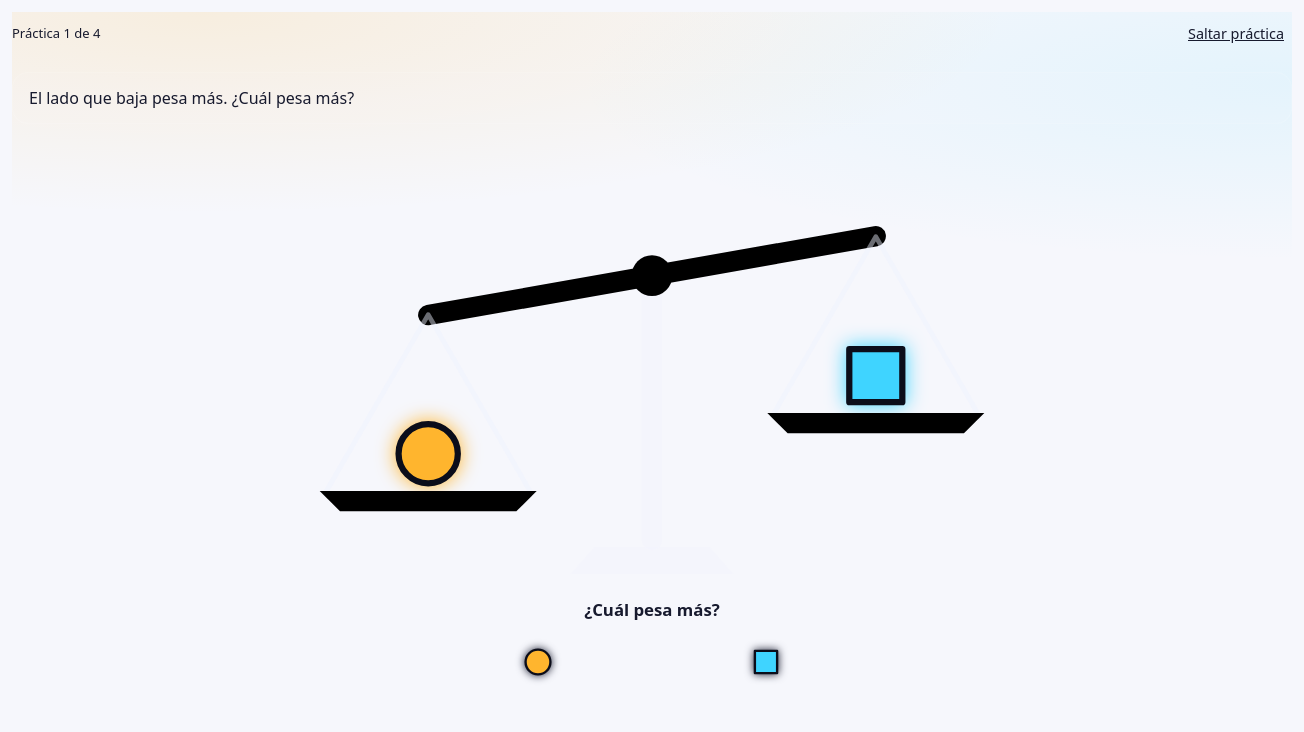
Test case: the four rounds, answered right, complete once; the new balance tips with a clonk in rounds 3 and 4
Later steps or results of the test are not shown.
Click the button named "círculo ámbar" at (538, 662), box x1=428 y1=632 x2=647 y2=692
Wait 700 ms
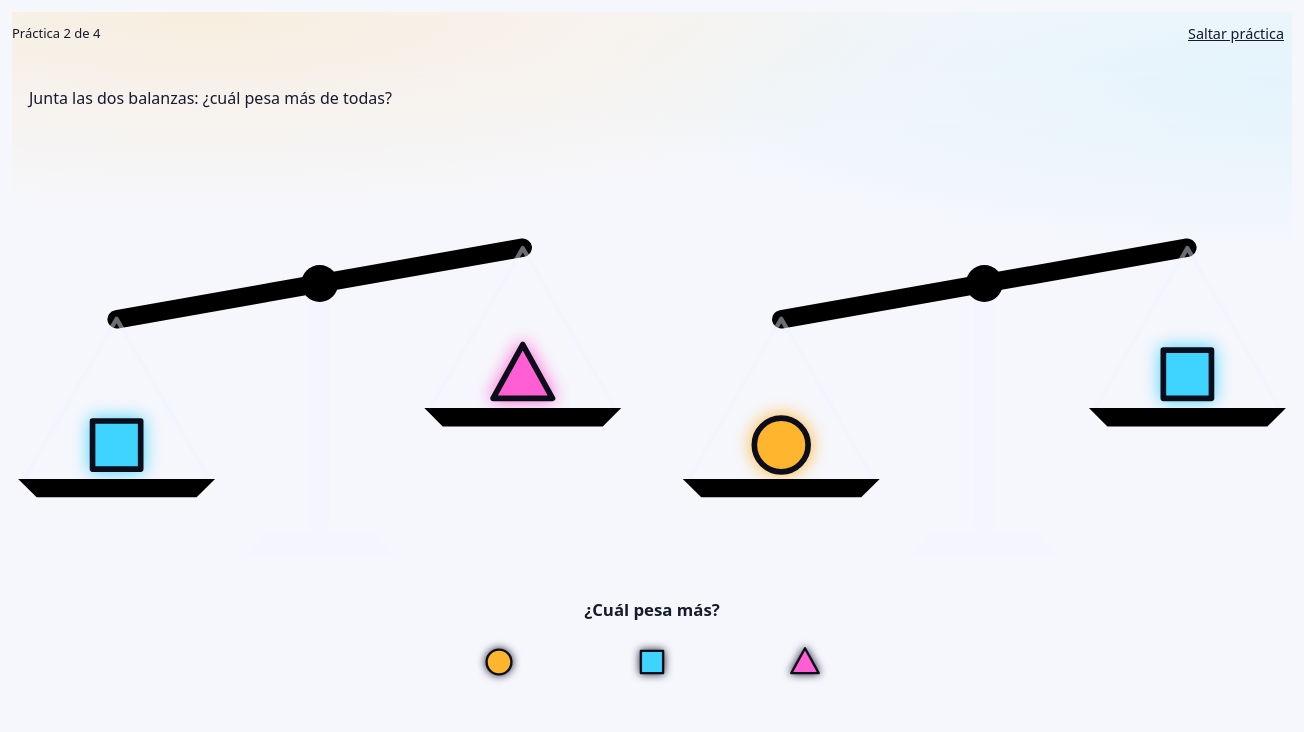
Now the text "Junta las dos balanzas: ¿cuál pesa más de todas?" is shown, box x1=12 y1=72 x2=1292 y2=124
Click the button named "círculo ámbar" at (499, 662), box x1=428 y1=632 x2=571 y2=692
Wait 700 ms
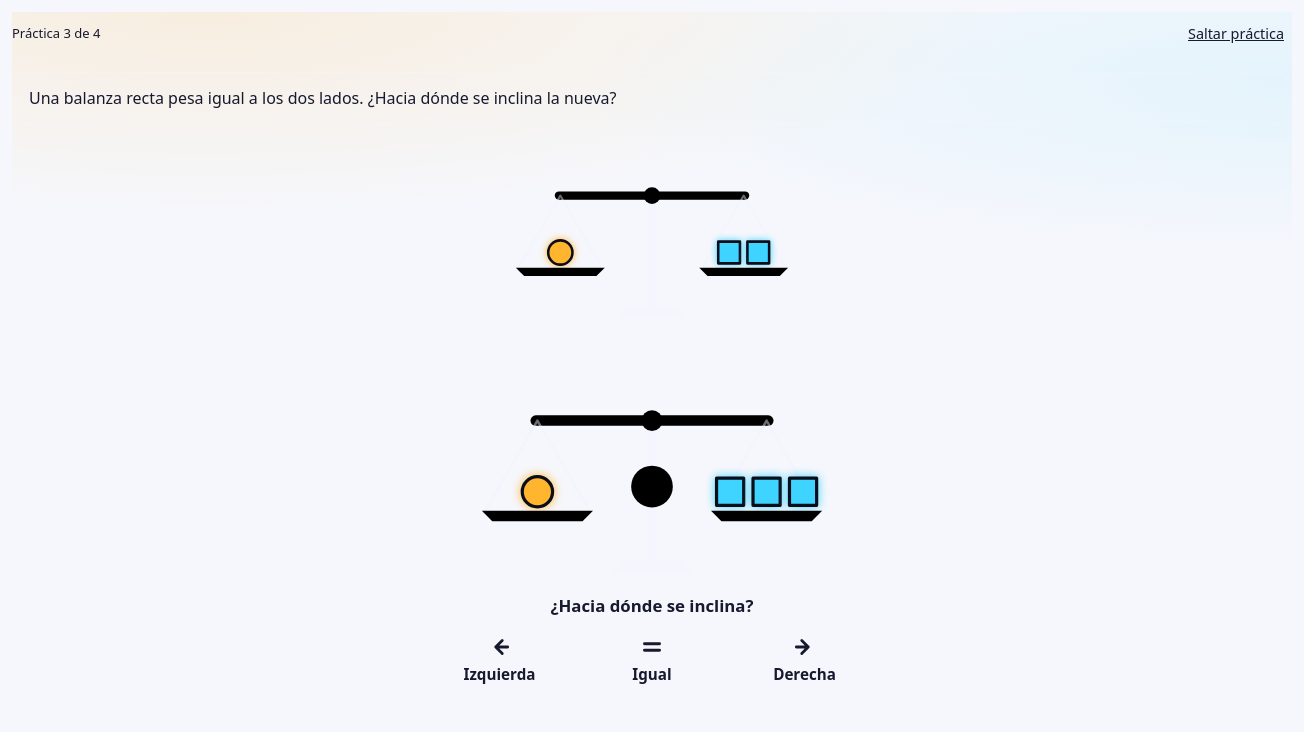
Now the text "Una balanza recta pesa igual a los dos lados. ¿Hacia dónde se inclina la nueva?" is shown, box x1=12 y1=72 x2=1292 y2=124
Click the button "Derecha" at (805, 660), box x1=733 y1=628 x2=876 y2=692
Wait 700 ms
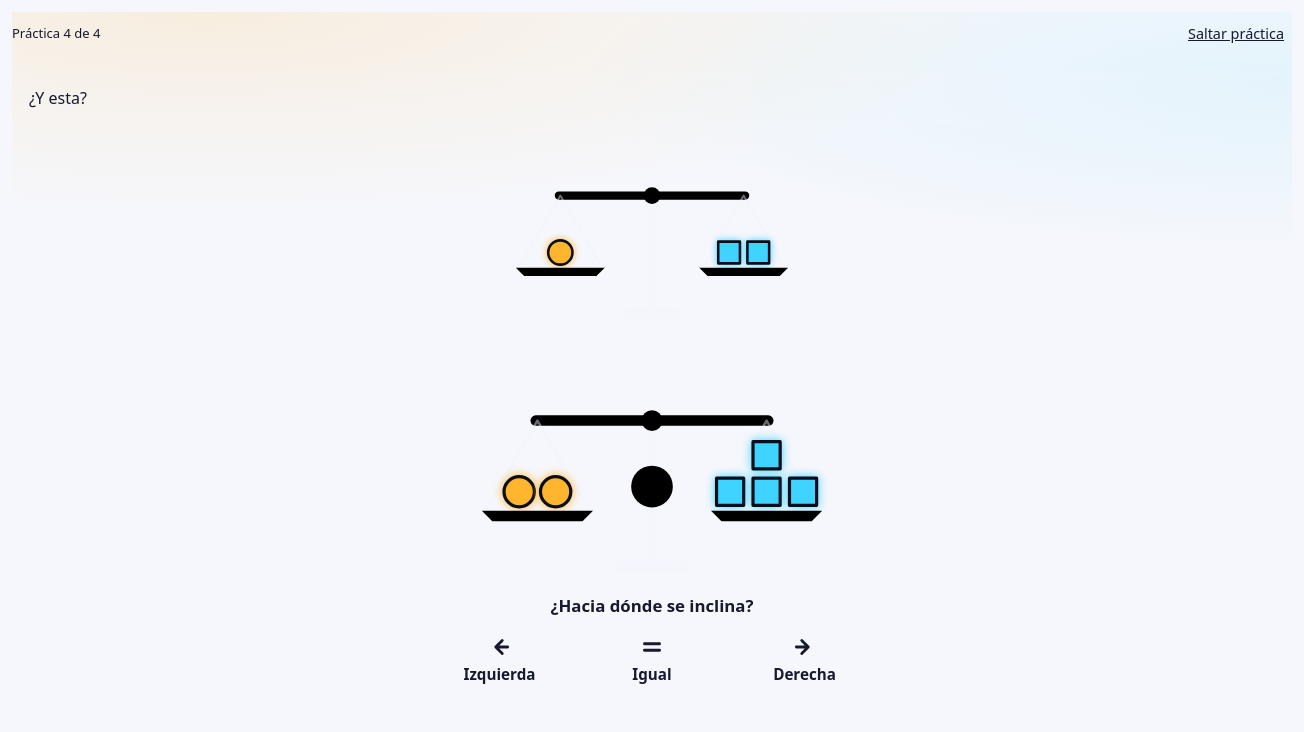
Now the text "¿Y esta?" is shown, box x1=12 y1=72 x2=1292 y2=124
